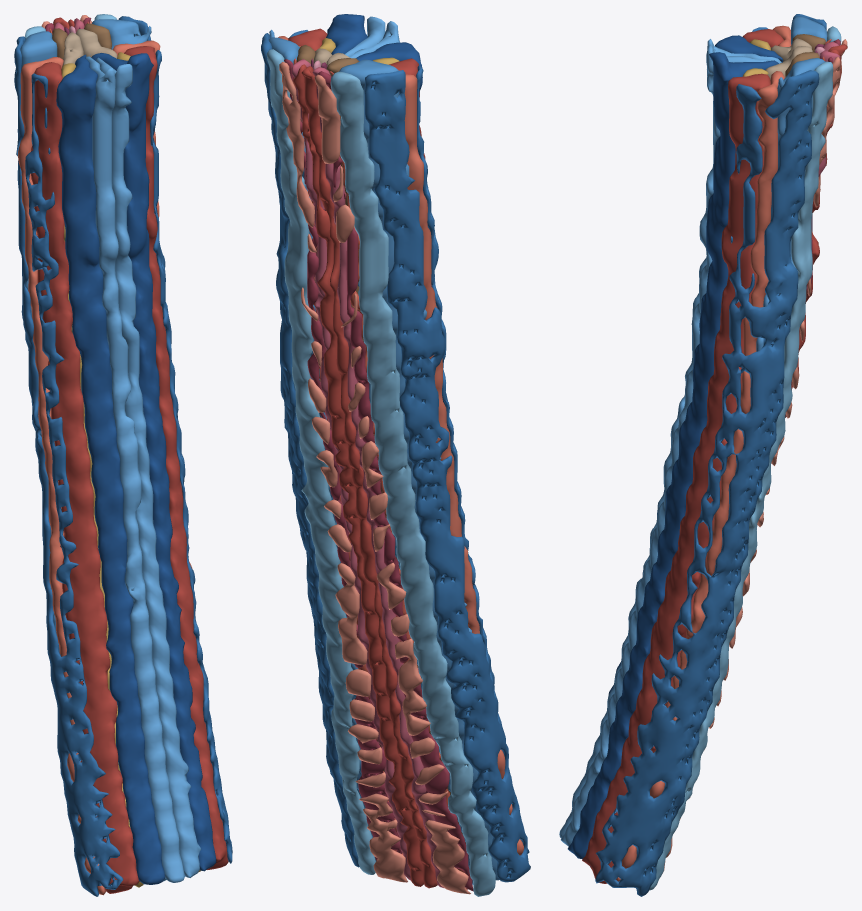
File: spinal-cord.glb
The picture shows the model from 3 angles, left to right: view 1: azimuth 30°, elevation 25°; view 2: azimuth 150°, elevation 25°; view 3: azimuth 270°, elevation 25°; orthographic projection. The views are drawn at different scales.
Parts seen in each view (by area): view 1: pam50:left:cuneate-fasciculus, pam50:left:ventral-spinocerebellar-tract, pam50:left:lateral-corticospinal-tract, pam50:left:gracile-fasciculus, pam50:right:cuneate-fasciculus, pam50:right:gracile-fasciculus, pam50:right:lateral-corticospinal-tract, pam50:left:rubrospinal-tract, pam50:right:ventral-spinocerebellar-tract, pam50:left:spinal-lemniscus, pam50:right:spinal-lemniscus, pam50:left:dorsal-horn (+2 smaller); view 2: pam50:left:ventral-spinocerebellar-tract, pam50:left:spino-olivary-tract, pam50:right:spino-olivary-tract, pam50:right:ventral-reticulospinal-tract, pam50:left:ventral-reticulospinal-tract, pam50:right:ventral-corticospinal-tract, pam50:right:ventral-spinocerebellar-tract, pam50:left:ventral-corticospinal-tract, pam50:left:lateral-vestibulospinal-tract, pam50:left:rubrospinal-tract, pam50:left:tectospinal-tract, pam50:right:lateral-vestibulospinal-tract (+7 smaller); view 3: pam50:right:ventral-spinocerebellar-tract, pam50:right:cuneate-fasciculus, pam50:right:lateral-corticospinal-tract, pam50:right:spino-olivary-tract, pam50:right:rubrospinal-tract, pam50:right:gracile-fasciculus, pam50:left:gracile-fasciculus, pam50:right:ventral-reticulospinal-tract, pam50:right:spinal-lemniscus, pam50:left:cuneate-fasciculus, pam50:left:spinal-lemniscus.
Boxes of the visible parts, x1,y1,x2,y2 form: pam50:left:cuneate-fasciculus: (56, 54, 164, 884); pam50:left:ventral-spinocerebellar-tract: (14, 36, 123, 896); pam50:left:lateral-corticospinal-tract: (31, 62, 139, 893); pam50:left:gracile-fasciculus: (86, 56, 184, 882); pam50:right:cuneate-fasciculus: (91, 53, 216, 876); pam50:right:gracile-fasciculus: (90, 54, 201, 877); pam50:right:lateral-corticospinal-tract: (124, 46, 228, 869); pam50:left:rubrospinal-tract: (18, 57, 105, 895); pam50:right:ventral-spinocerebellar-tract: (118, 16, 232, 863); pam50:left:spinal-lemniscus: (20, 31, 85, 857); pam50:right:spinal-lemniscus: (92, 19, 151, 49); pam50:left:dorsal-horn: (61, 63, 143, 887); pam50:left:ventral-spinocerebellar-tract: (365, 59, 530, 882); pam50:left:spino-olivary-tract: (330, 71, 495, 896); pam50:right:spino-olivary-tract: (266, 49, 375, 874); pam50:right:ventral-reticulospinal-tract: (279, 62, 407, 882); pam50:left:ventral-reticulospinal-tract: (314, 74, 470, 894); pam50:right:ventral-corticospinal-tract: (292, 64, 423, 886); pam50:right:ventral-spinocerebellar-tract: (261, 30, 359, 867); pam50:left:ventral-corticospinal-tract: (301, 66, 437, 888); pam50:left:lateral-vestibulospinal-tract: (318, 71, 473, 891); pam50:left:rubrospinal-tract: (399, 74, 523, 855); pam50:left:tectospinal-tract: (312, 67, 443, 887); pam50:right:lateral-vestibulospinal-tract: (284, 59, 401, 860); pam50:right:ventral-spinocerebellar-tract: (590, 70, 819, 896); pam50:right:cuneate-fasciculus: (567, 52, 778, 859); pam50:right:lateral-corticospinal-tract: (582, 73, 770, 883); pam50:right:spino-olivary-tract: (649, 61, 833, 890); pam50:right:rubrospinal-tract: (616, 71, 784, 881); pam50:right:gracile-fasciculus: (560, 44, 767, 846); pam50:left:gracile-fasciculus: (559, 39, 781, 837); pam50:right:ventral-reticulospinal-tract: (662, 56, 840, 873); pam50:right:spinal-lemniscus: (636, 58, 825, 858); pam50:left:cuneate-fasciculus: (566, 35, 783, 820); pam50:left:spinal-lemniscus: (791, 16, 827, 45).
Bounding box in the file's own units: 0.0126 × 0.0646 × 0.0204.
